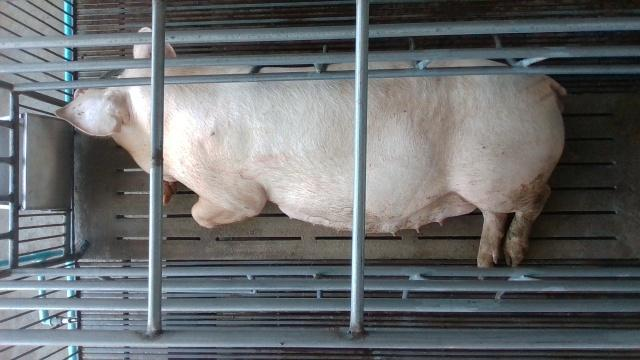sow-sleep-lactate: (53, 26, 566, 265)
